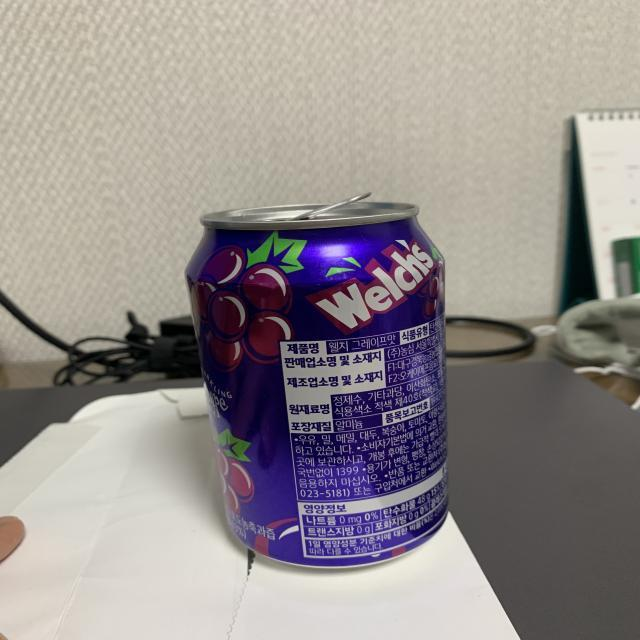metal-can: (189, 192, 453, 573)
